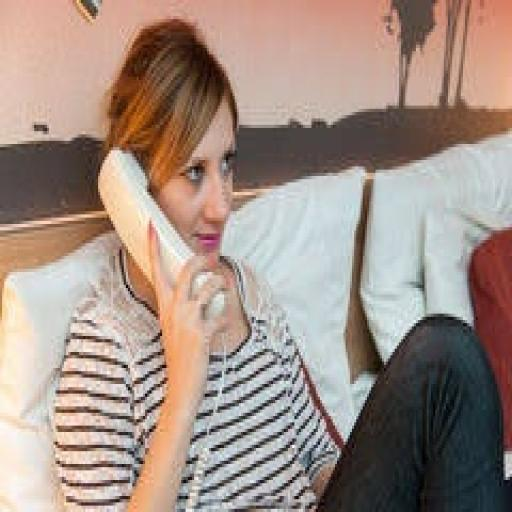calling: (51, 16, 504, 509)
